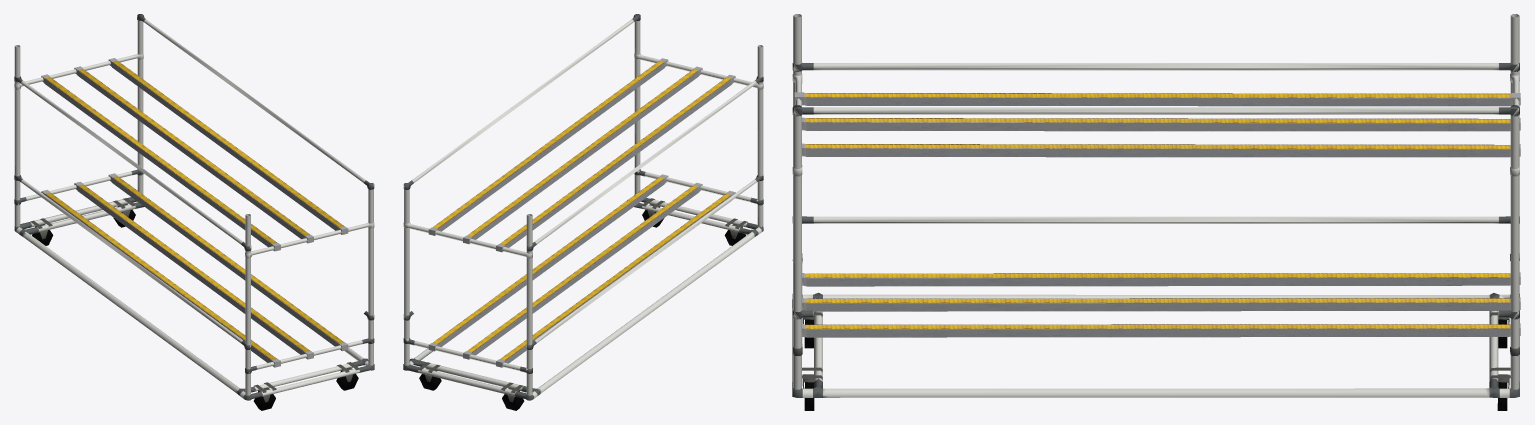
Rendered from YuanJiaZi.FBX.
3 renders of one model, left to right at view 1: azimuth 30°, elevation 25°; view 2: azimuth 150°, elevation 25°; view 3: azimuth 270°, elevation 25°, orthographic. The views are drawn at different scales.
Visible parts, largest first — view 1: YuanJiaZi; view 2: YuanJiaZi; view 3: YuanJiaZi.
Part boxes in pixels (bbox=[...]): YuanJiaZi: bbox=[14, 14, 374, 410]; YuanJiaZi: bbox=[403, 14, 763, 410]; YuanJiaZi: bbox=[792, 14, 1520, 410].
Size of the model in its own units: 88.4 by 132 by 277.
